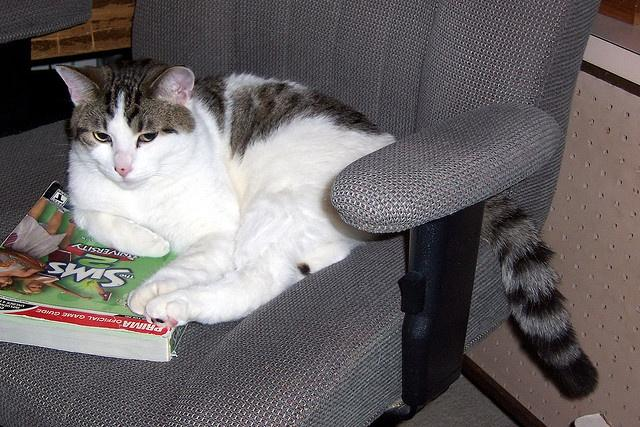Kursi: (0, 0, 602, 426)
